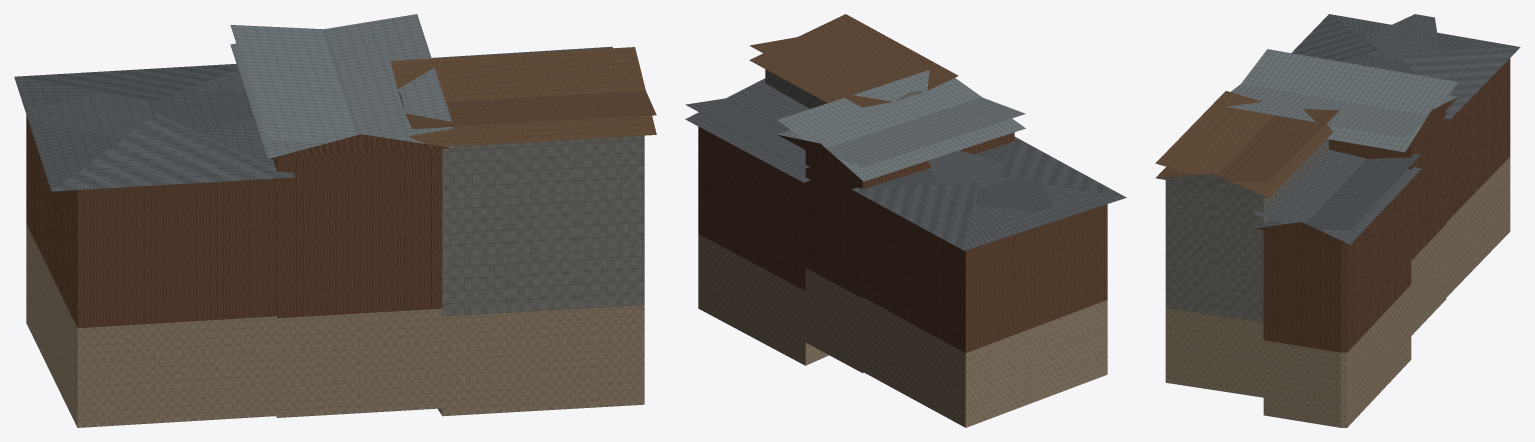
File: bld_c44_48_186.gltf
3 renders of one model, left to right at view 1: azimuth 30°, elevation 25°; view 2: azimuth 150°, elevation 25°; view 3: azimuth 270°, elevation 25°, orthographic. The views are drawn at different scales.
Parts seen in each view (by area): view 1: bld_c44_48_186; view 2: bld_c44_48_186; view 3: bld_c44_48_186.
Part boxes in pixels (bbox=[...]): bld_c44_48_186: bbox=[14, 14, 656, 427]; bld_c44_48_186: bbox=[685, 14, 1126, 427]; bld_c44_48_186: bbox=[1155, 14, 1520, 427].
Bounding box in the file's own units: 30.79 × 16.2 × 22.47.
Materials: 8 (8 with a texture image).
